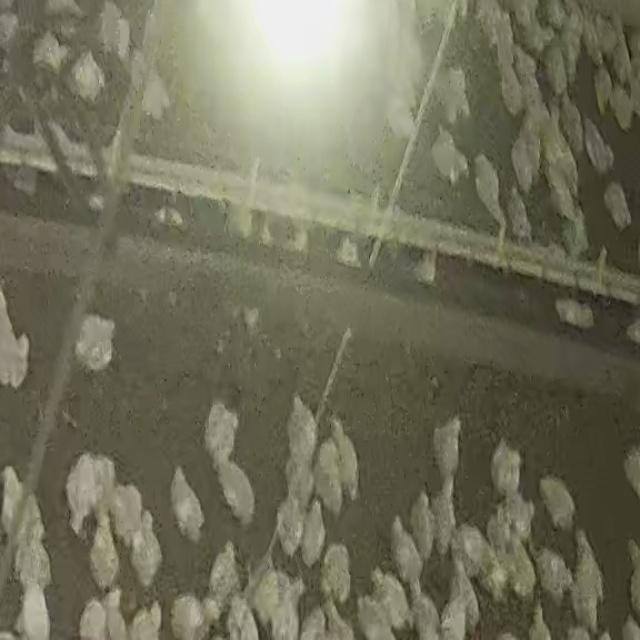chicken: (536, 112, 584, 226), (12, 507, 53, 596), (570, 530, 606, 631), (360, 567, 412, 636), (439, 554, 481, 638), (1, 278, 32, 388), (493, 532, 538, 602), (249, 566, 295, 634), (62, 452, 100, 534), (285, 395, 319, 482), (85, 508, 121, 588), (534, 541, 574, 611), (472, 152, 508, 229), (169, 467, 206, 540), (330, 418, 361, 504), (389, 513, 425, 586), (495, 42, 529, 119), (128, 509, 163, 583), (431, 63, 470, 128), (314, 437, 346, 515), (219, 456, 255, 524), (509, 124, 542, 196), (431, 416, 463, 490), (489, 437, 525, 501), (206, 400, 240, 467), (430, 126, 469, 184), (495, 490, 535, 546), (139, 59, 174, 122), (77, 308, 113, 369), (539, 476, 578, 532), (208, 539, 242, 603), (581, 114, 616, 176), (275, 492, 307, 556), (428, 485, 458, 553), (68, 50, 106, 103), (110, 485, 142, 547), (558, 93, 588, 158), (320, 542, 352, 602), (16, 584, 52, 637), (0, 465, 25, 541), (298, 499, 326, 565), (408, 490, 434, 561), (224, 592, 262, 640), (384, 89, 418, 142), (169, 594, 207, 640), (31, 30, 68, 77), (541, 42, 571, 98), (606, 80, 636, 135), (504, 185, 532, 243), (320, 595, 358, 637), (457, 524, 490, 571), (408, 591, 441, 638), (77, 594, 110, 640), (603, 180, 633, 230), (593, 67, 618, 122), (554, 296, 596, 328), (129, 601, 162, 640), (103, 593, 129, 640), (622, 450, 640, 511)
